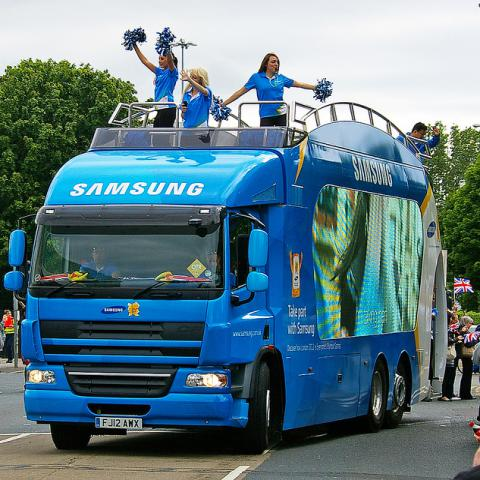bus: (0, 106, 435, 418)
truck: (25, 104, 439, 450)
